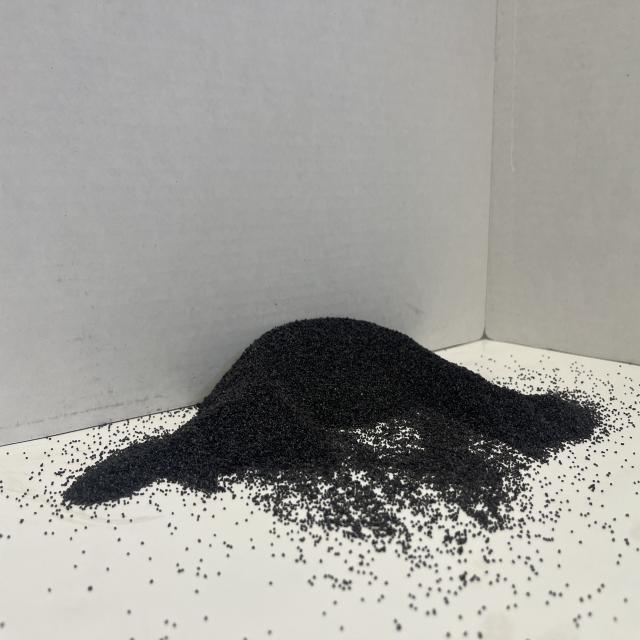Poppy Seeds: (72, 292, 601, 553)
